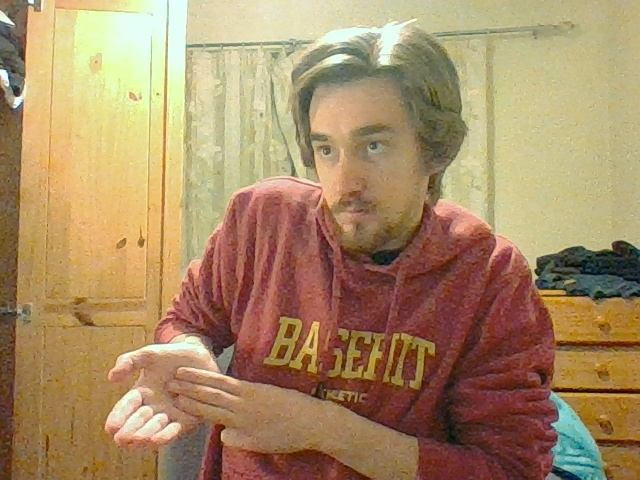mother: (105, 334, 232, 447)
